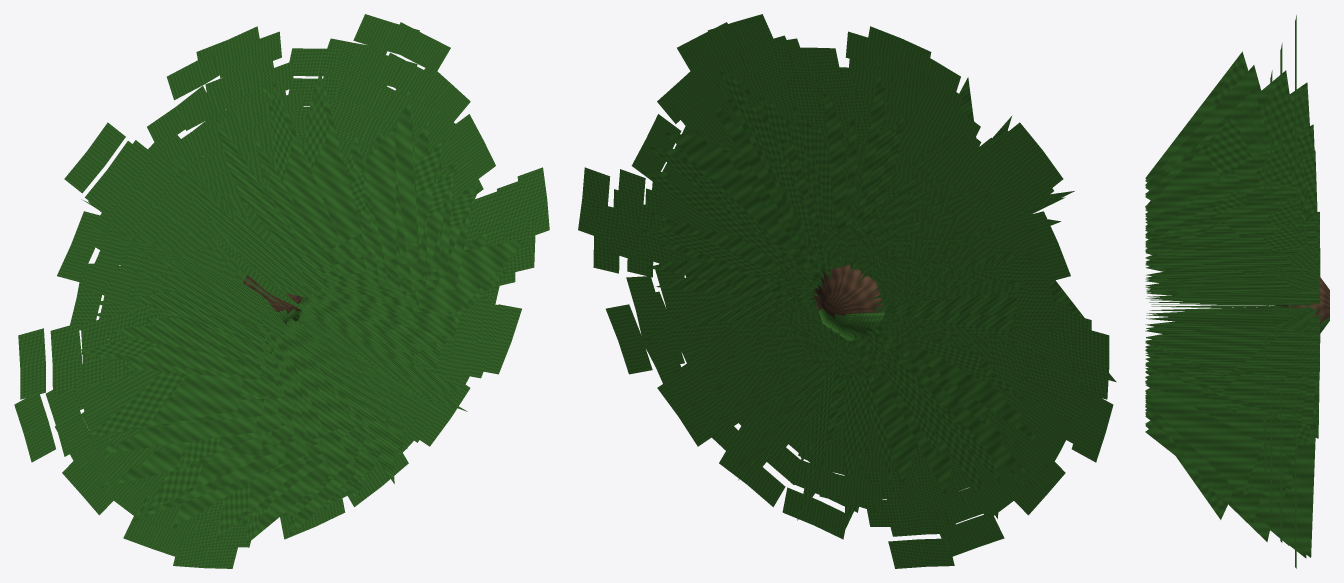
Rendered from veg_ground_fern_01.obj.
The picture shows the model from 3 angles, left to right: view 1: azimuth 30°, elevation 25°; view 2: azimuth 150°, elevation 25°; view 3: azimuth 270°, elevation 25°; orthographic projection. The views are drawn at different scales.
Parts seen in each view (by area): view 1: veg_ground_fern_01; view 2: veg_ground_fern_01; view 3: veg_ground_fern_01.
Part boxes in pixels (box(x1,y1,x2,y2)): veg_ground_fern_01: box(14, 14, 549, 568); veg_ground_fern_01: box(578, 14, 1116, 568); veg_ground_fern_01: box(1145, 15, 1329, 568).
Size of the model in its own units: 2.12 by 2.03 by 0.65.
Materials: 1 (1 with a texture image).
